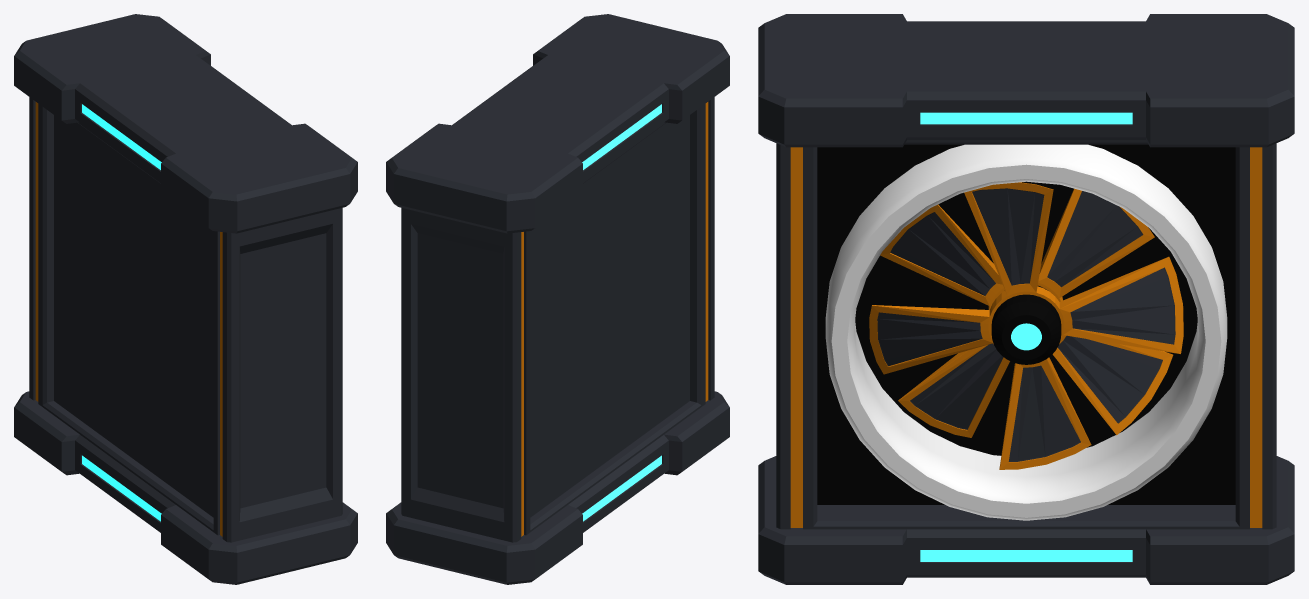
File: SM_Ventilateur.fbx
3 renders of one model, left to right at view 1: azimuth 30°, elevation 25°; view 2: azimuth 150°, elevation 25°; view 3: azimuth 270°, elevation 25°, orthographic. The views are drawn at different scales.
Visible parts, largest first — view 1: SM_Ventilateur_Bottom; view 2: SM_Ventilateur_Bottom; view 3: SM_Ventilateur_Bottom, SM_Ventilateur_Helices.
Part boxes in pixels (<box>): SM_Ventilateur_Bottom: <box>14,14,357,584</box>; SM_Ventilateur_Bottom: <box>386,14,729,584</box>; SM_Ventilateur_Bottom: <box>758,14,1294,584</box>; SM_Ventilateur_Helices: <box>869,182,1183,469</box>.
Size of the model in its own units: 40 by 100 by 100.
